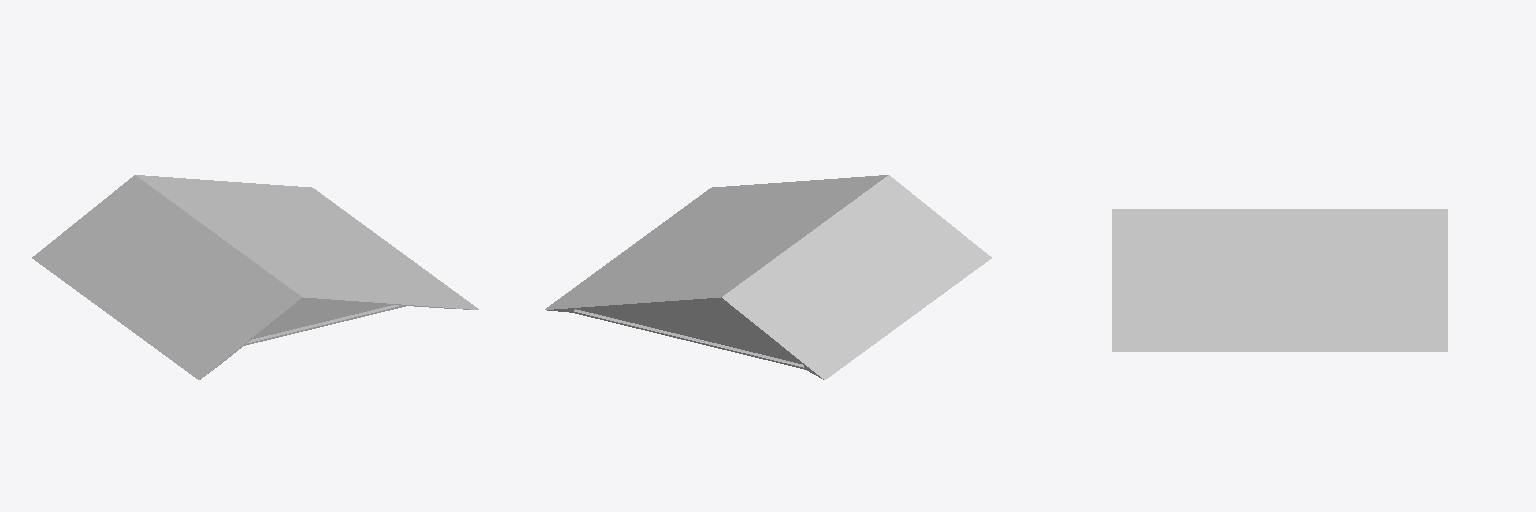
File: techo.obj
3 views of the same model, side by side, from view 1: azimuth 30°, elevation 25°; view 2: azimuth 150°, elevation 25°; view 3: azimuth 270°, elevation 25° (orthographic).
Parts seen in each view (by area): view 1: Object002, Box017; view 2: Object002, Box017; view 3: Object002.
Part boxes in pixels (x1,y1,x2,y2): Object002: (32, 175, 478, 379); Box017: (244, 299, 405, 345); Object002: (545, 175, 991, 379); Box017: (547, 299, 821, 378); Object002: (1112, 209, 1447, 351).
Bounding box in the file's own units: 5.43 × 1.07 × 5.6.